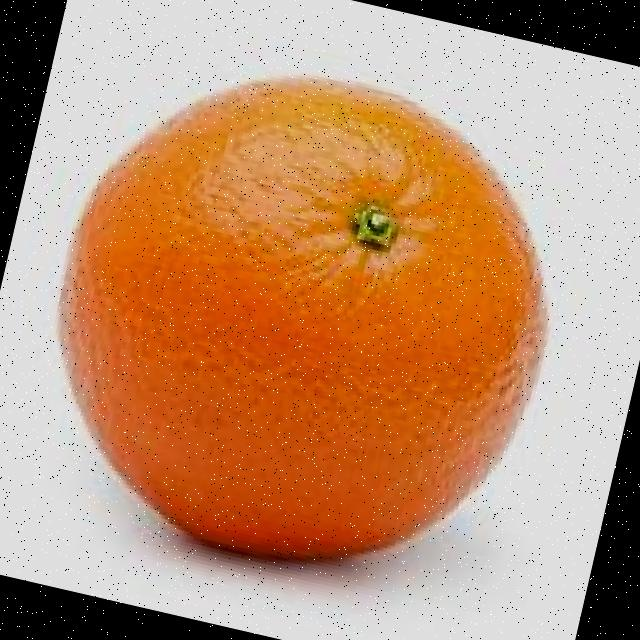Ripe: (0, 13, 610, 616)
